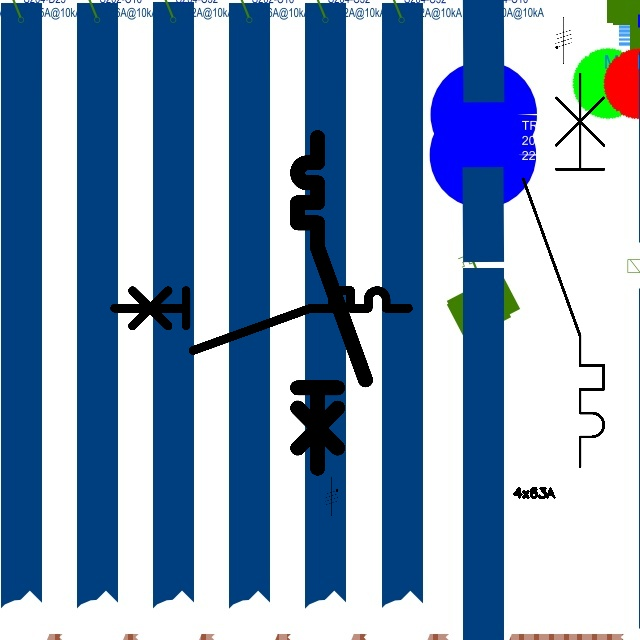interruptor_termomagnetico: (513, 63, 614, 476), (289, 129, 374, 477), (107, 283, 416, 358)
